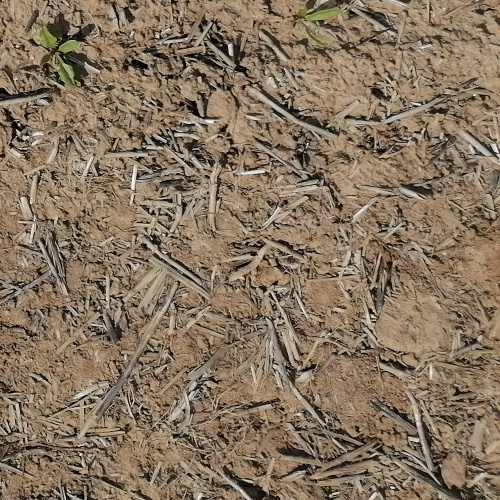beet: (38, 26, 79, 89), (288, 6, 338, 51)
